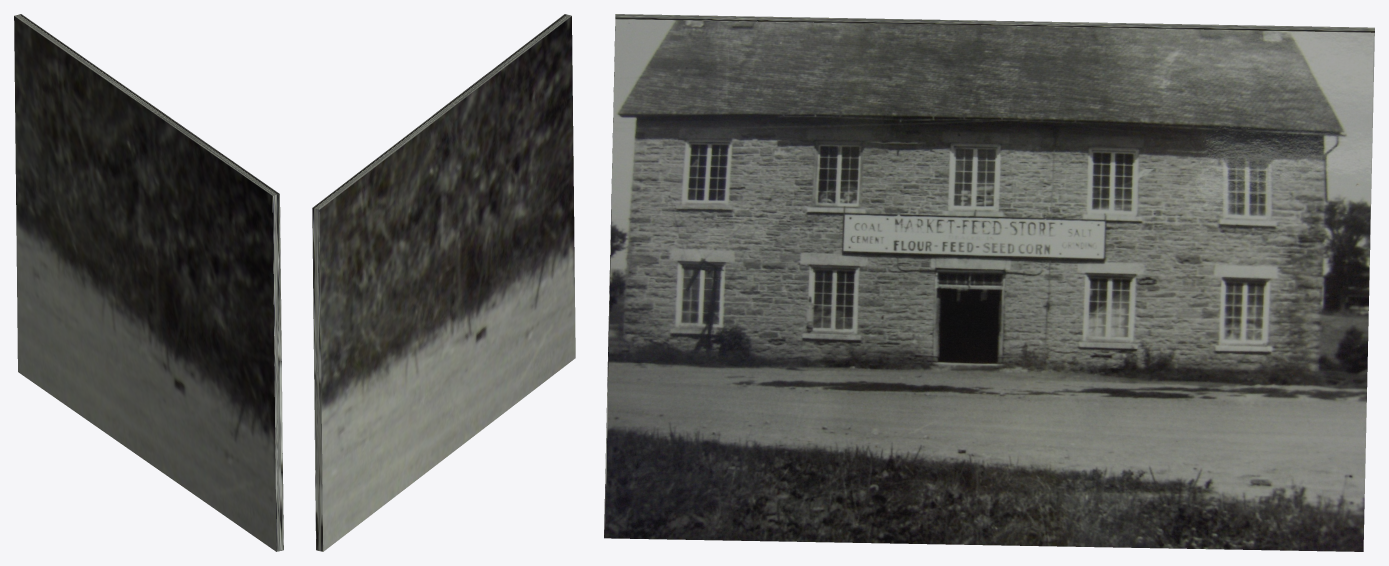
The model's file is Mill1880.gltf.
The picture shows the model from 3 angles, left to right: view 1: azimuth 30°, elevation 25°; view 2: azimuth 150°, elevation 25°; view 3: azimuth 270°, elevation 25°; orthographic projection. The views are drawn at different scales.
Parts seen in each view (by area): view 1: Cube; view 2: Cube; view 3: Cube.
Part boxes in pixels (x1,y1,x2,y2): Cube: (14,14,283,551); Cube: (312,14,575,551); Cube: (604,14,1374,551).
Size of the model in its own units: 0.1349 by 6.34 by 8.32.
Materials: 1 (1 with a texture image).
